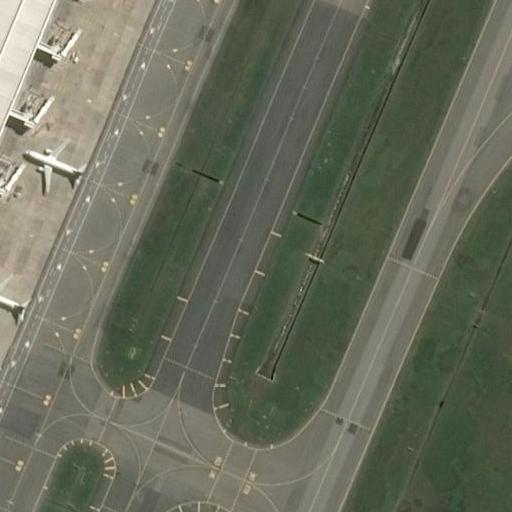Aircraft: (22, 133, 88, 193), (0, 271, 29, 330)
